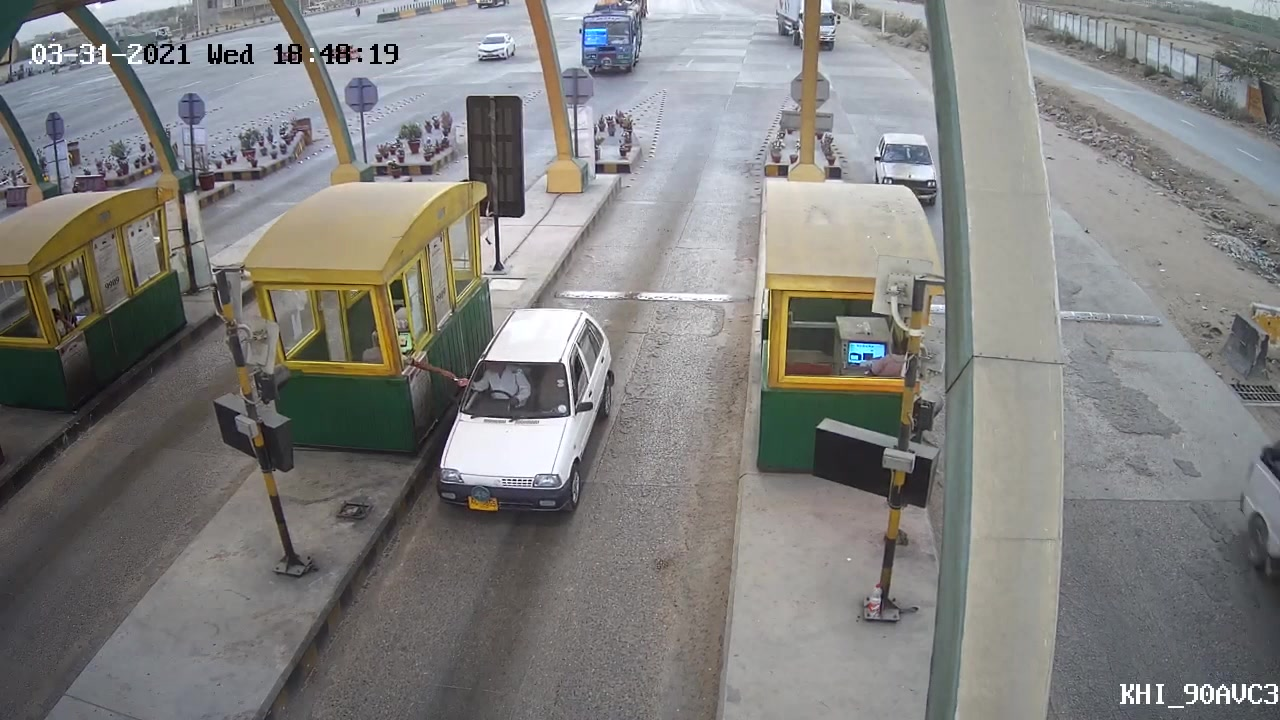F1: (422, 301, 631, 526)
